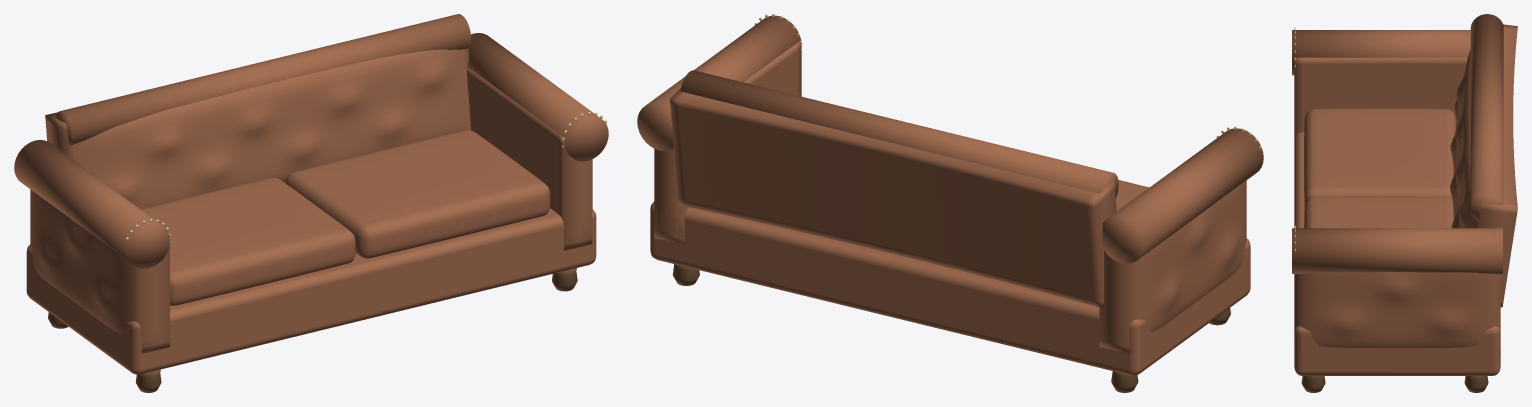
File: sofa.glb
3 renders of one model, left to right at view 1: azimuth 30°, elevation 25°; view 2: azimuth 150°, elevation 25°; view 3: azimuth 270°, elevation 25°, orthographic. The views are drawn at different scales.
Visible parts, largest first — view 1: Sofa_back, Sofa_base, Sofa_cushion1, Sofa_cushion0, Sofa_backroll, Sofa_arm-1, Sofa_arm1, Sofa_armroll-1, Sofa_armroll1; view 2: Sofa_back, Sofa_base, Sofa_arm-1, Sofa_backroll, Sofa_armroll-1, Sofa_armroll1, Sofa_arm1, Sofa_cushion0; view 3: Sofa_arm1, Sofa_cushion0, Sofa_armroll1, Sofa_arm-1, Sofa_base, Sofa_back, Sofa_backroll, Sofa_armroll-1, Sofa_cushion1, Sofa_foot.002, Sofa_foot.003.
Part boxes in pixels (<box>): Sofa_back: <box>45,48,470,209</box>; Sofa_base: <box>26,208,596,374</box>; Sofa_cushion1: <box>285,130,550,258</box>; Sofa_cushion0: <box>141,177,355,305</box>; Sofa_backroll: <box>55,14,471,145</box>; Sofa_arm-1: <box>30,189,169,353</box>; Sofa_arm1: <box>466,67,592,250</box>; Sofa_armroll-1: <box>14,140,170,268</box>; Sofa_armroll1: <box>468,33,608,161</box>; Sofa_back: <box>670,88,1116,308</box>; Sofa_base: <box>650,201,1250,375</box>; Sofa_arm-1: <box>1099,180,1246,353</box>; Sofa_backroll: <box>680,70,1118,198</box>; Sofa_armroll-1: <box>1102,128,1263,263</box>; Sofa_armroll1: <box>637,15,801,151</box>; Sofa_arm1: <box>654,41,801,245</box>; Sofa_cushion0: <box>1115,180,1149,211</box>; Sofa_arm1: <box>1294,272,1500,353</box>; Sofa_cushion0: <box>1304,108,1456,206</box>; Sofa_armroll1: <box>1292,228,1502,273</box>; Sofa_arm-1: <box>1294,57,1467,139</box>; Sofa_base: <box>1294,132,1500,375</box>; Sofa_back: <box>1450,24,1517,307</box>; Sofa_backroll: <box>1470,14,1503,221</box>; Sofa_armroll-1: <box>1292,30,1470,75</box>; Sofa_cushion1: <box>1304,196,1453,228</box>; Sofa_foot.002: <box>1464,376,1488,392</box>; Sofa_foot.003: <box>1301,376,1325,392</box>.
Bounding box in the file's own units: 2.15 × 0.88 × 0.9429.
